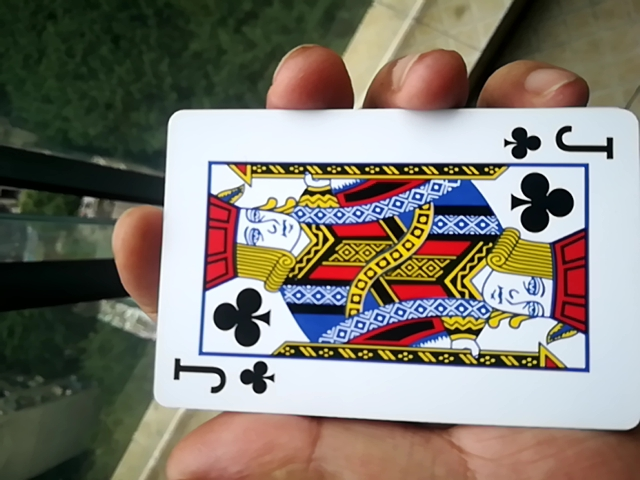mh j: (126, 119, 632, 436)
